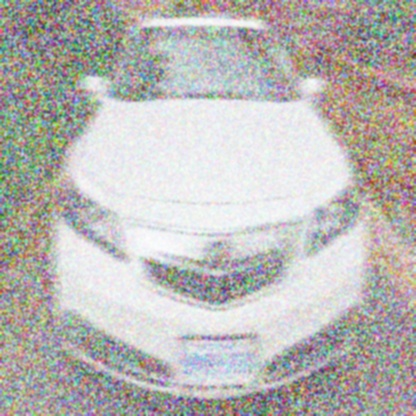Vehicle: (52, 12, 369, 402)
